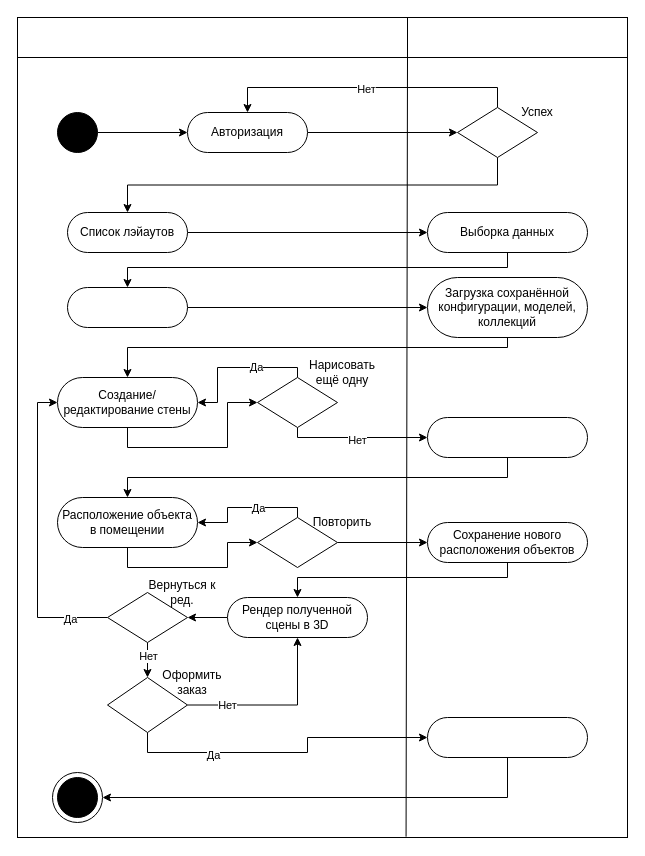
Image size: 645x856. Some labels were removed from this diagram. The centre of each missing label's shape, as x and y in pixels:
"Выбрать лэйаут" belongs at (127,307).
"Клиент" belongs at (212,37).
"Оформление заказа" belongs at (507,737).
"Сервер с БД" belongs at (517,37).
"Сохранение конфигурации стен" belongs at (507,437).
